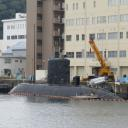submarine: (7, 58, 127, 101)
